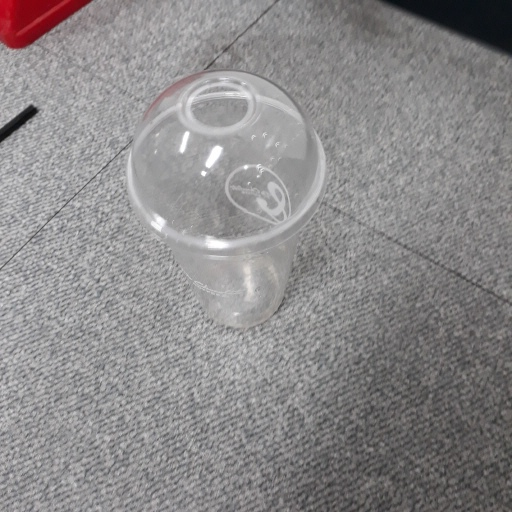Plastic_2: (126, 71, 329, 330)
